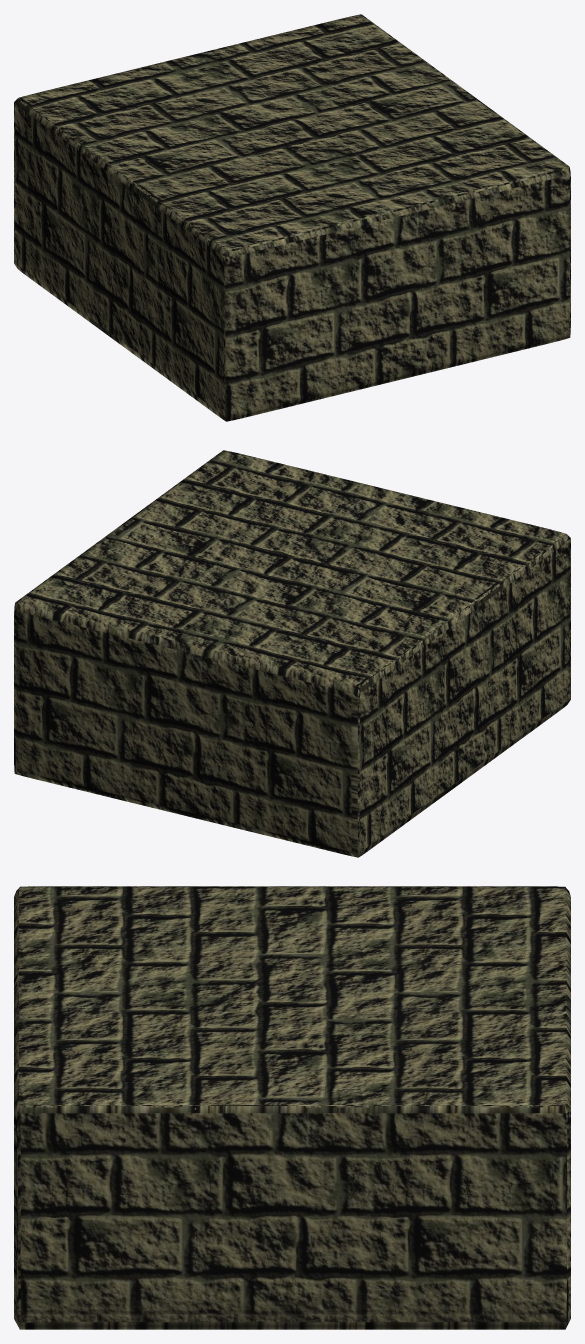
File: wall.glb
The picture shows the model from 3 angles, top to bottom: view 1: azimuth 30°, elevation 25°; view 2: azimuth 150°, elevation 25°; view 3: azimuth 270°, elevation 25°; orthographic projection. The views are drawn at different scales.
Parts seen in each view (by area): view 1: wall; view 2: wall; view 3: wall.
Boxes of the visible parts, x1,y1,x2,y2 form: wall: (14,14,570,421); wall: (14,450,570,857); wall: (14,886,570,1329).
Size of the model in its own units: 1.4 by 0.6608 by 1.49.
Materials: 1 (1 with a texture image).
